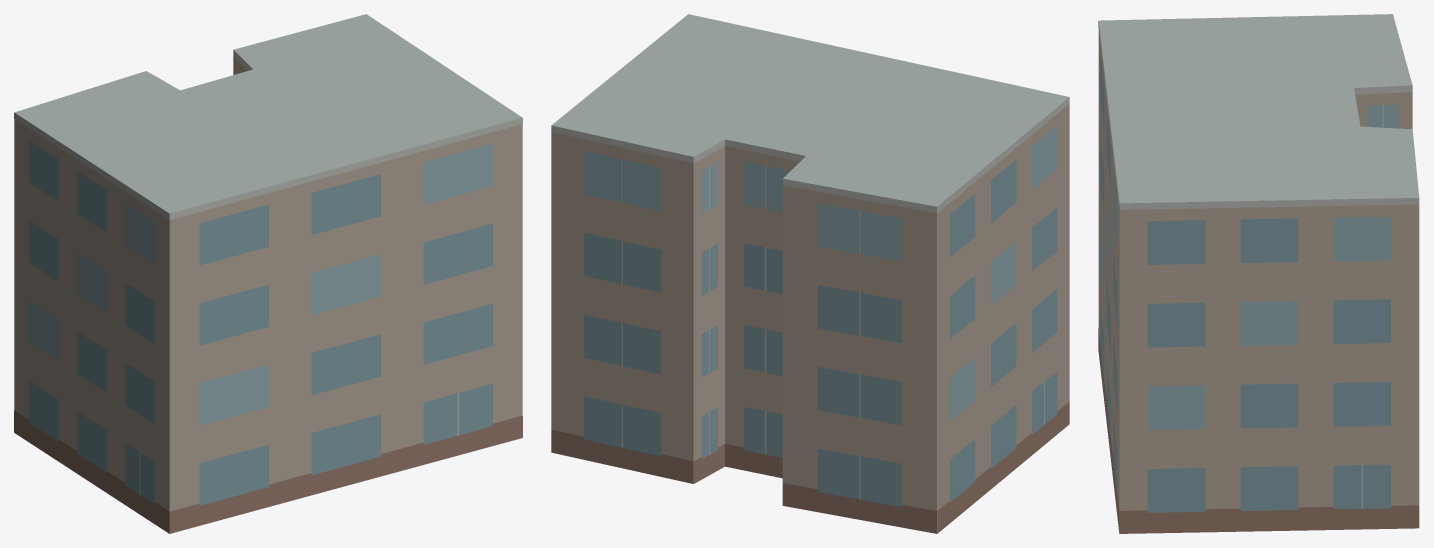
Rendered from survey-upis-32998944.glb.
3 views of the same model, side by side, from view 1: azimuth 30°, elevation 25°; view 2: azimuth 150°, elevation 25°; view 3: azimuth 270°, elevation 25° (orthographic). The views are drawn at different scales.
Visible parts, largest first — view 1: survey-upis-32998944.tmp; view 2: survey-upis-32998944.tmp; view 3: survey-upis-32998944.tmp.
Boxes of the visible parts, box(x1,y1,x2,y2) form: survey-upis-32998944.tmp: box(14, 14, 522, 533); survey-upis-32998944.tmp: box(551, 14, 1069, 533); survey-upis-32998944.tmp: box(1098, 14, 1419, 533).
Bounding box in the file's own units: 14.88 × 12.1 × 10.65.
